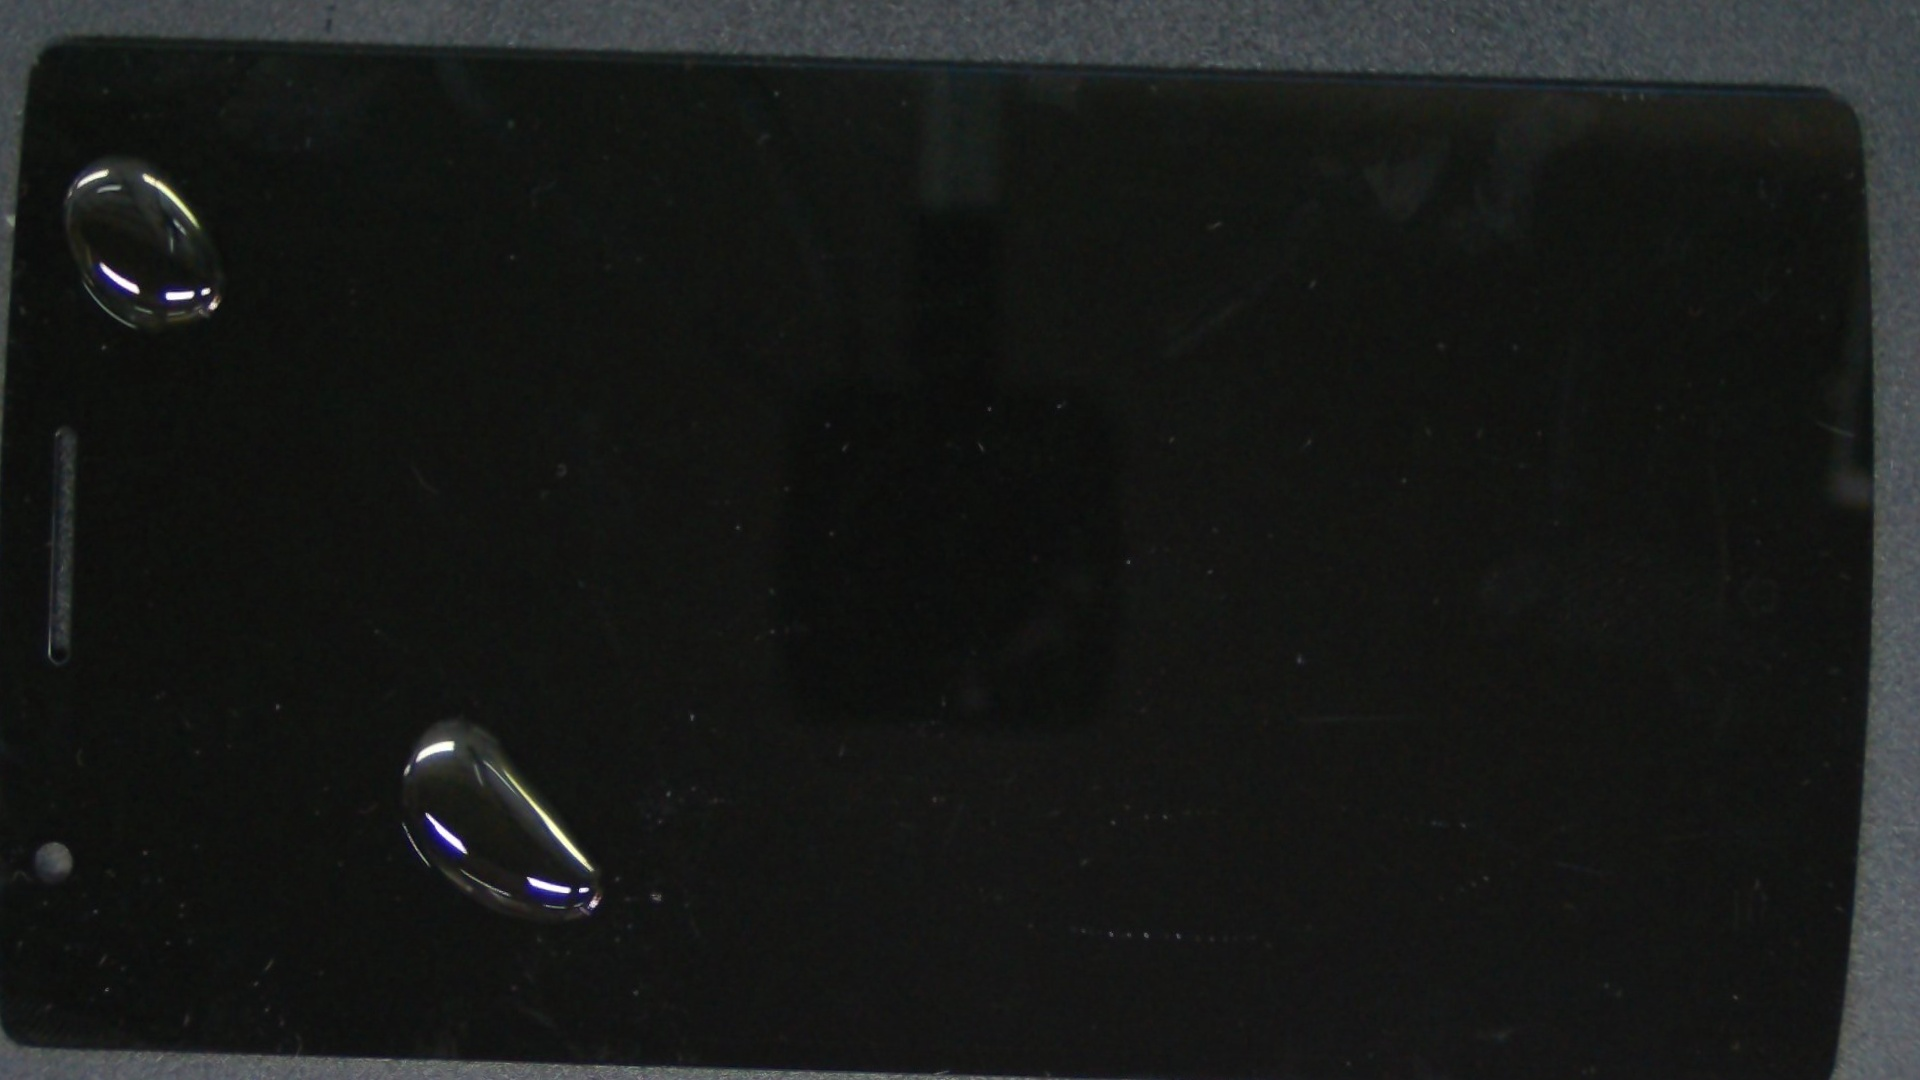oil: (177, 319, 735, 1080), (25, 38, 204, 273)
